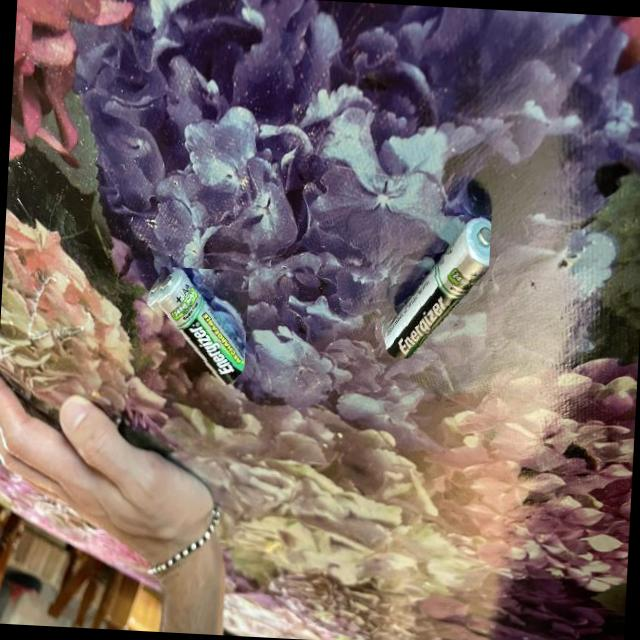Hazard: (376, 208, 491, 362), (142, 264, 248, 390)
